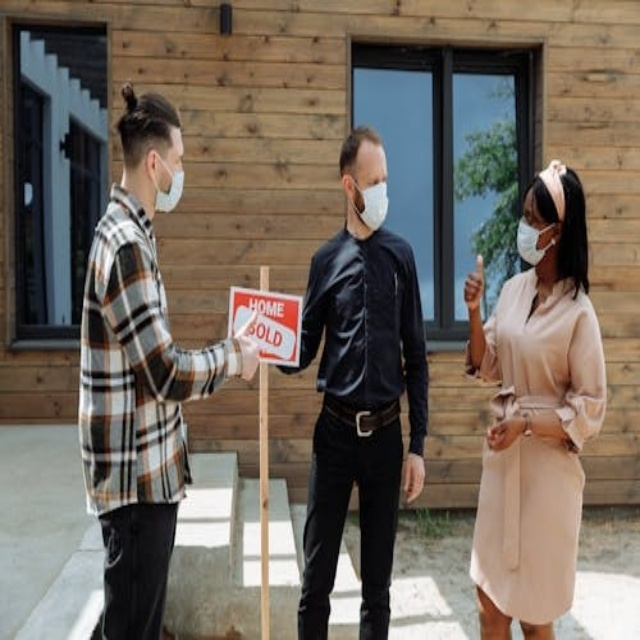Mascara: (348, 176, 389, 230), (516, 217, 559, 267), (152, 152, 185, 213)
Sin_gafas: (516, 204, 540, 231), (352, 169, 388, 186), (161, 150, 186, 173)
Sin_guantes: (483, 407, 524, 459), (461, 246, 489, 321), (230, 317, 262, 381), (398, 446, 430, 505)
